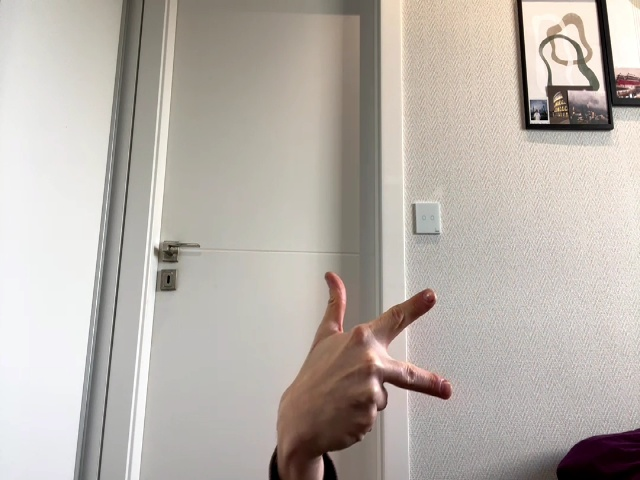K: (296, 272, 452, 443)
